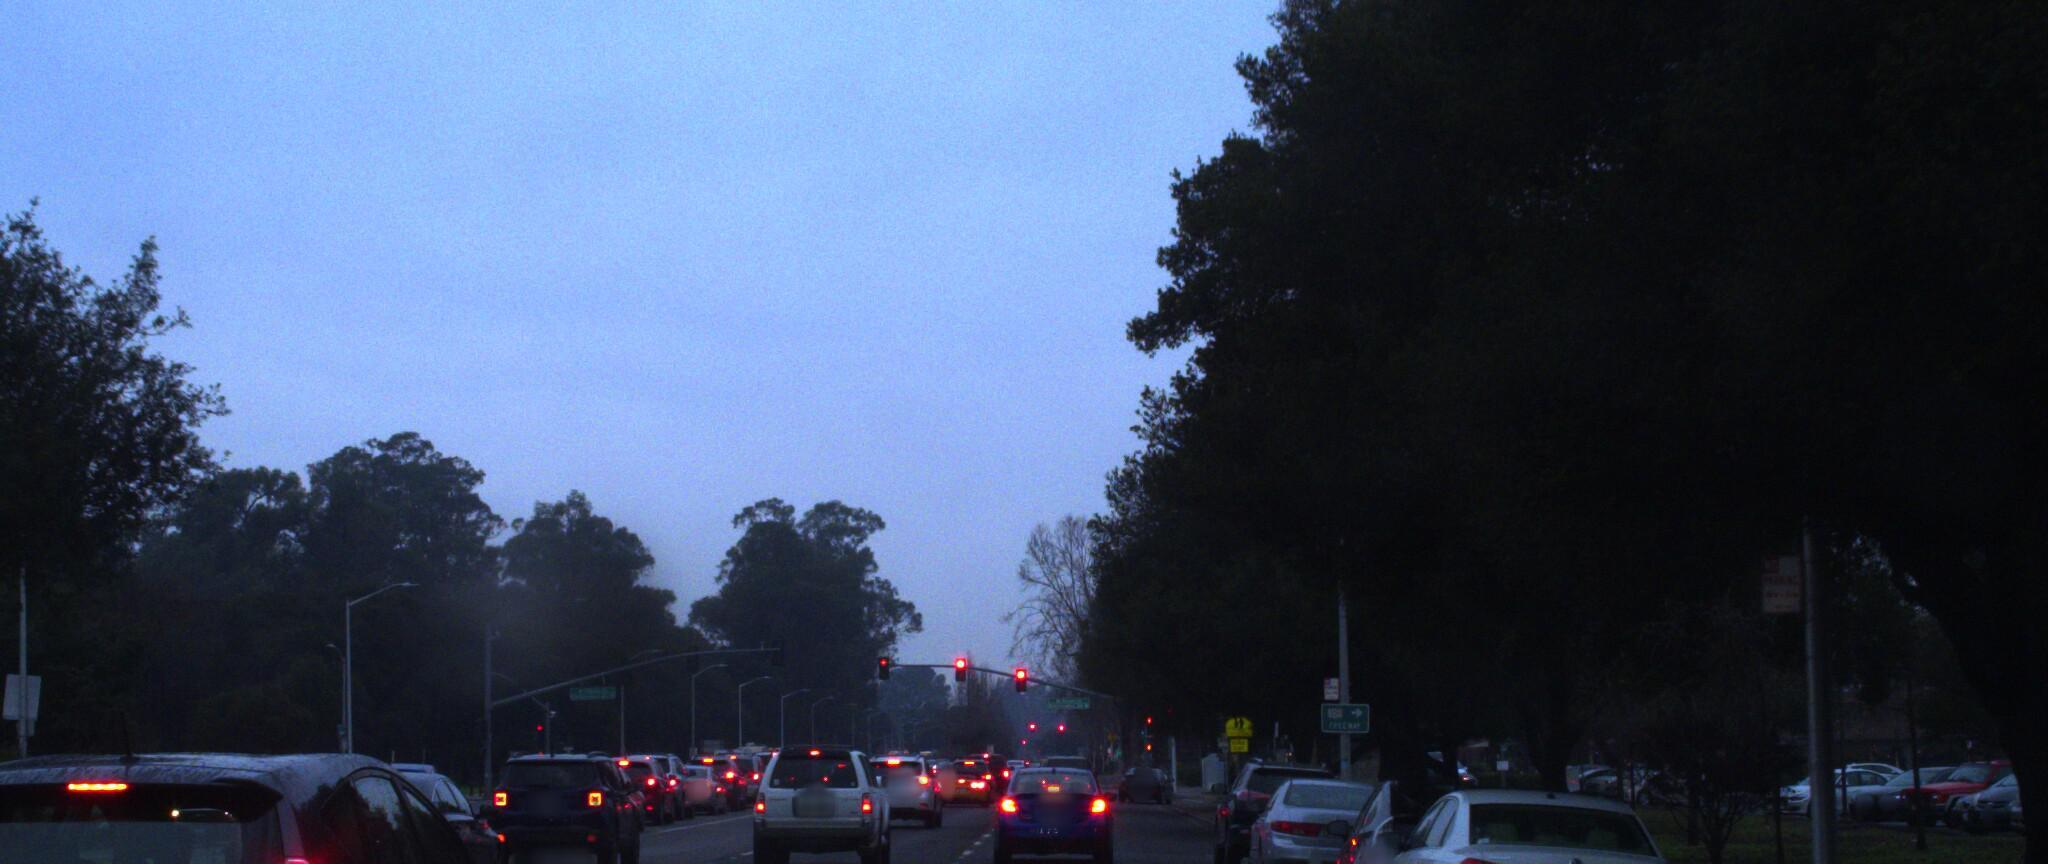car: (0, 748, 576, 864), (1351, 764, 1702, 864), (1311, 754, 1562, 864), (263, 765, 521, 864), (478, 733, 643, 861), (744, 733, 893, 864), (1200, 736, 1348, 864), (1236, 757, 1396, 864), (327, 752, 475, 854), (987, 748, 1106, 856), (880, 737, 970, 816)
